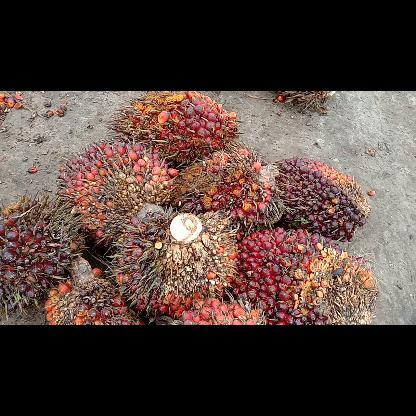TBS masak: (106, 204, 236, 316), (237, 228, 377, 324), (58, 142, 176, 242), (0, 197, 86, 316), (112, 92, 240, 162), (274, 152, 372, 242), (178, 148, 281, 230), (45, 254, 145, 324), (172, 296, 264, 324)
